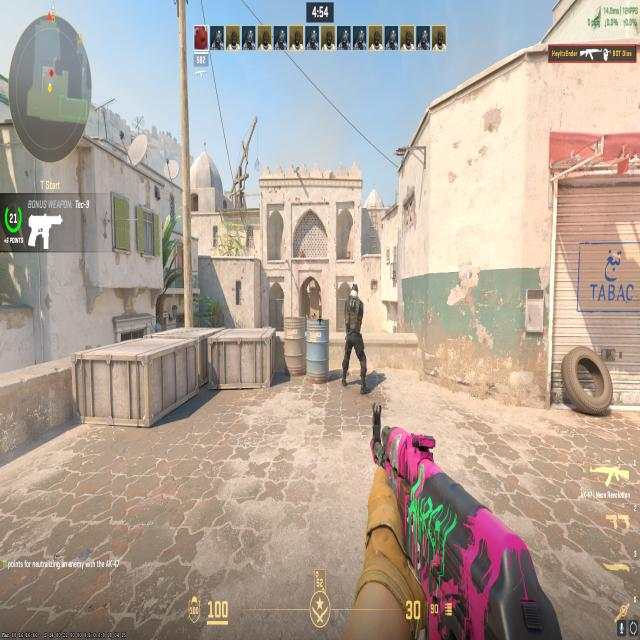ct: (338, 274, 372, 396)
